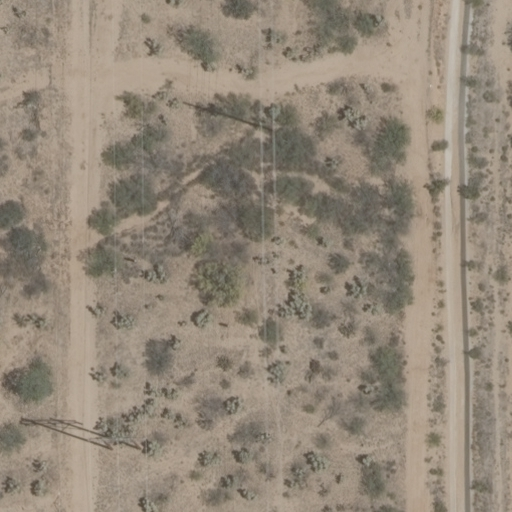DT: (81, 423, 150, 452), (250, 102, 284, 136)
